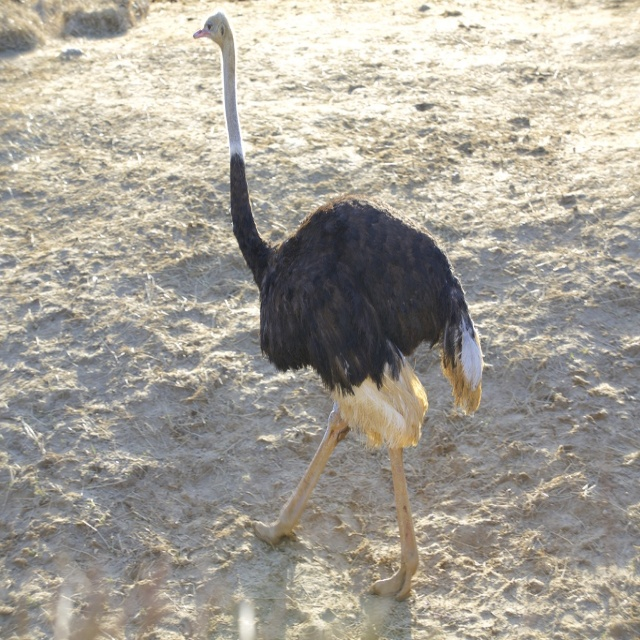Ostrich: (190, 8, 486, 602)
